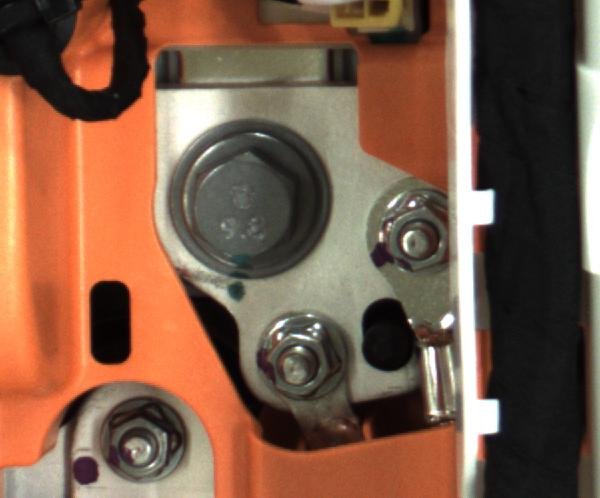nut_b: (150, 123, 341, 279)
screw_s: (249, 310, 368, 403), (359, 190, 467, 289), (95, 400, 195, 485)
